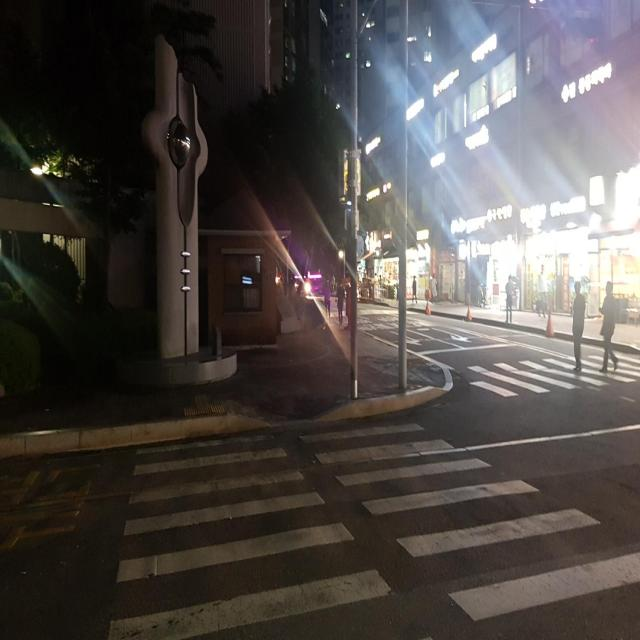횡단보도: (108, 422, 640, 639), (452, 350, 640, 403)
